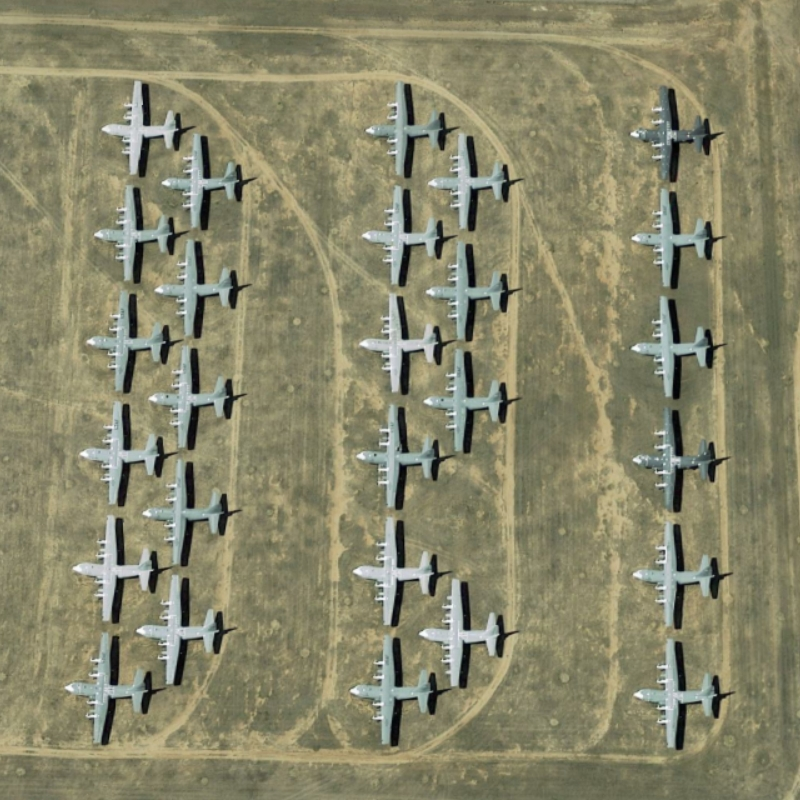A2: (410, 576, 527, 699), (619, 516, 735, 633), (625, 636, 731, 757), (61, 629, 164, 751), (341, 627, 443, 749), (131, 572, 233, 688), (339, 404, 448, 510), (139, 456, 239, 568), (348, 282, 442, 400), (76, 285, 173, 399), (347, 516, 445, 626), (422, 241, 522, 348), (626, 404, 720, 517), (148, 343, 243, 454), (72, 504, 157, 628), (623, 79, 721, 186), (419, 344, 513, 455), (623, 294, 722, 398), (627, 186, 723, 293), (361, 69, 451, 183), (98, 67, 186, 181), (83, 182, 179, 283), (148, 238, 243, 340), (76, 404, 166, 511), (154, 130, 245, 233), (426, 133, 515, 235), (359, 183, 441, 289)
